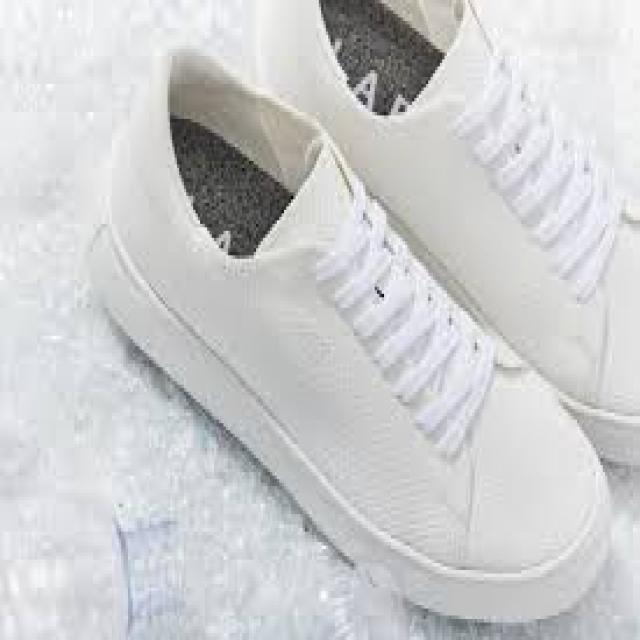shoe: (82, 55, 620, 624), (247, 0, 640, 460)
